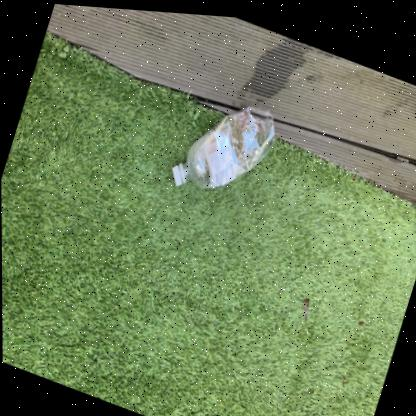Plastic: (172, 101, 275, 183)
